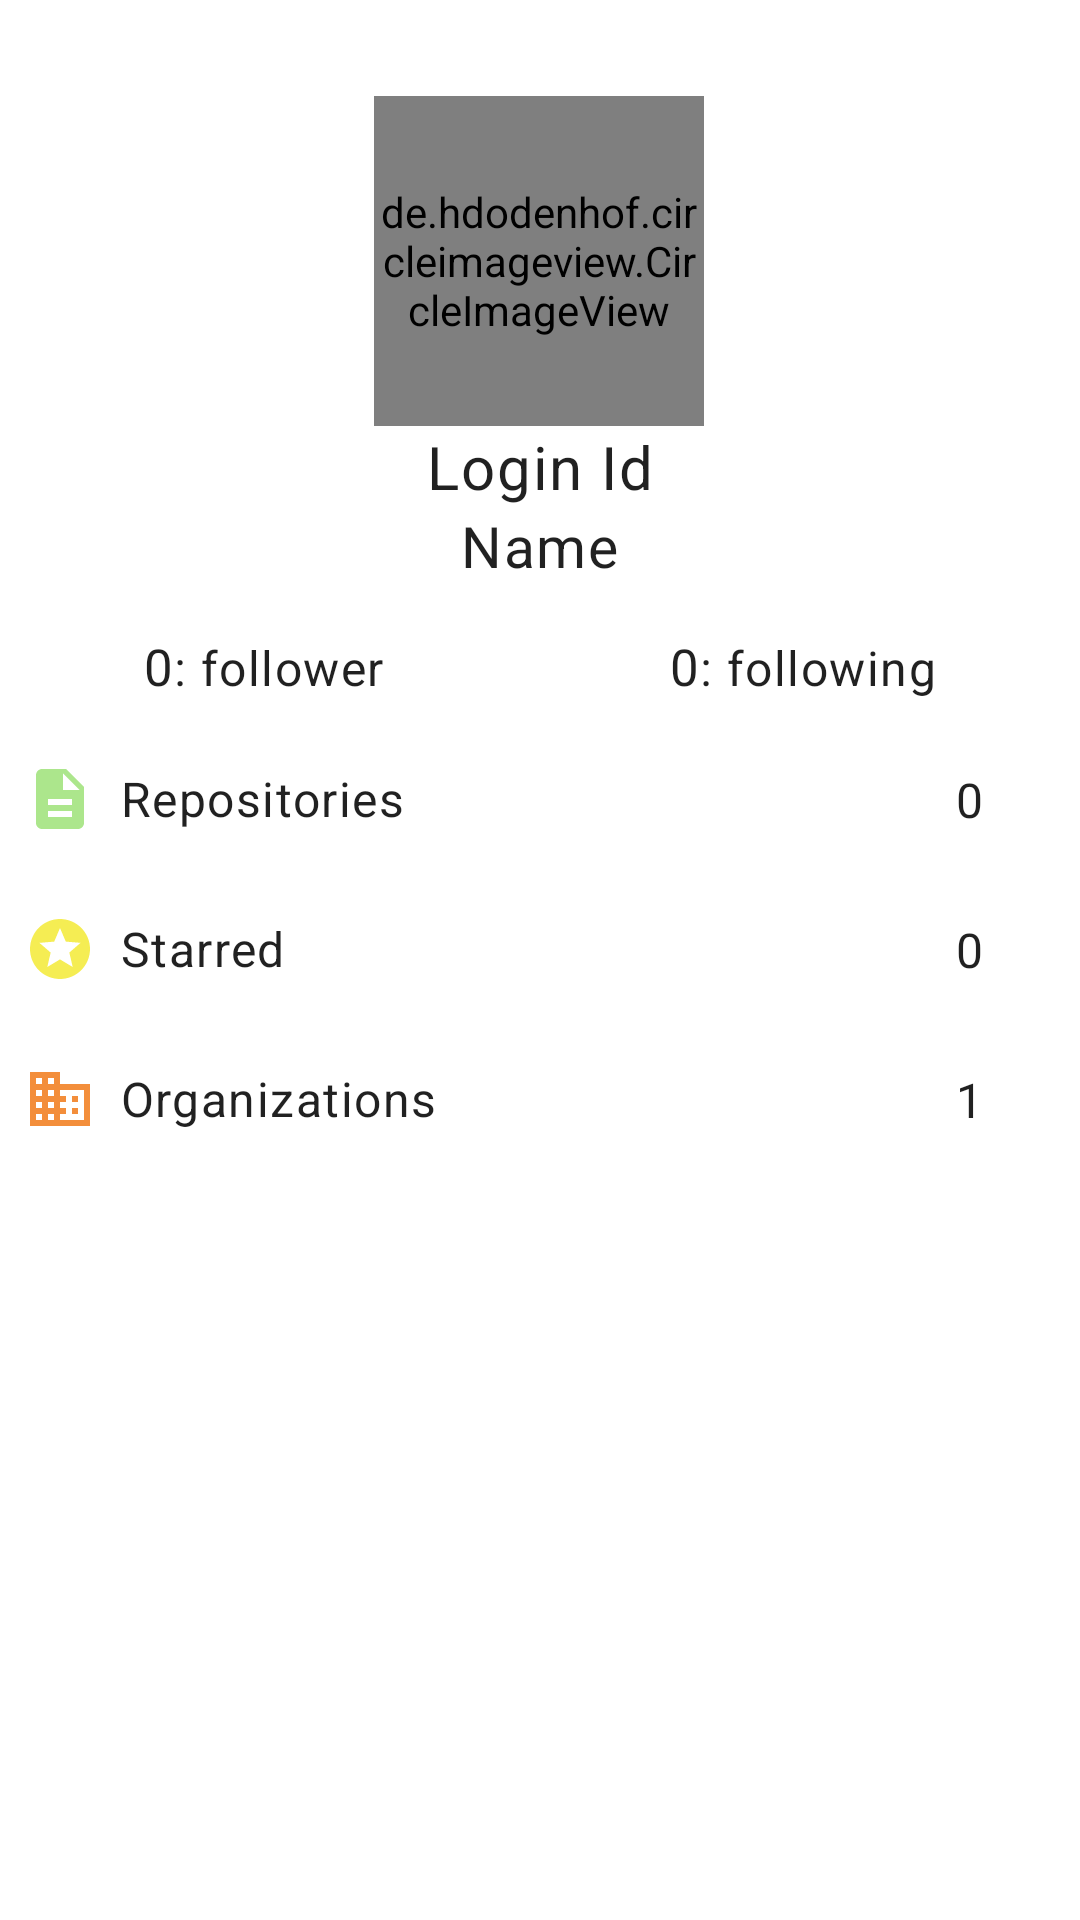

Named icons in this screenshot (1080 x 1920) and their bounding boxes, (x1=x1, y1=y1, x2=x2, y2=y2):
business: (x1=30, y1=1072, x2=90, y2=1126)
description: (x1=36, y1=769, x2=84, y2=829)
stars: (x1=30, y1=919, x2=90, y2=979)
